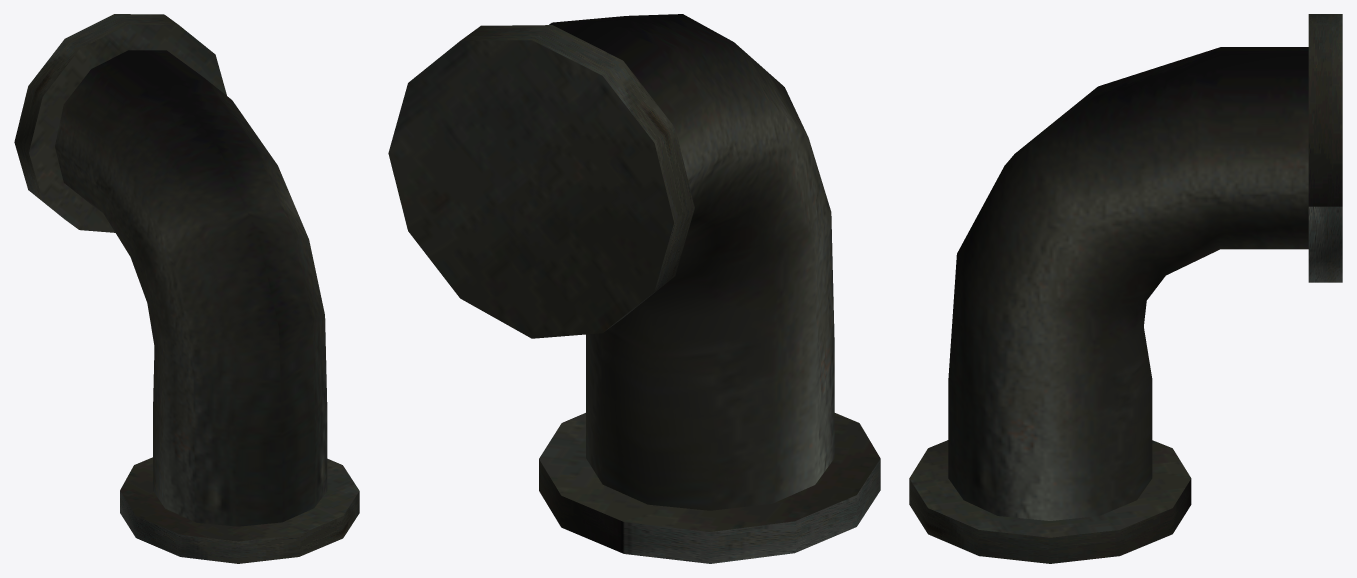
Rendered from pipe2.obj.
3 renders of one model, left to right at view 1: azimuth 30°, elevation 25°; view 2: azimuth 150°, elevation 25°; view 3: azimuth 270°, elevation 25°, orthographic. The views are drawn at different scales.
Visible parts, largest first — view 1: Group; view 2: Group; view 3: Group.
Boxes of the visible parts, box(x1,y1,x2,y2) form: Group: box(14, 14, 359, 563); Group: box(388, 14, 880, 563); Group: box(909, 14, 1342, 563).
Size of the model in its own units: 41.47 by 78.02 by 64.2.
